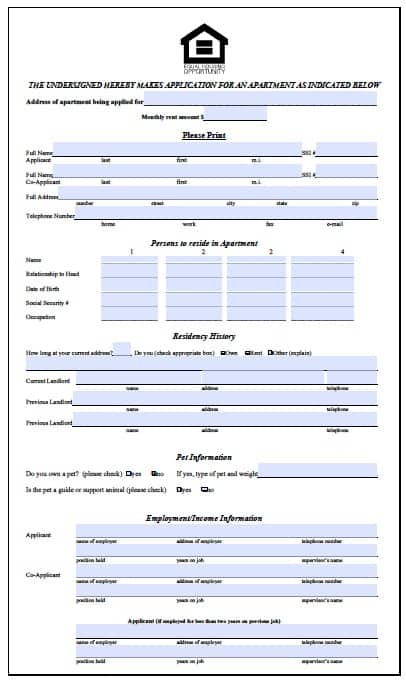checkbox: (199, 485, 209, 493), (149, 469, 158, 477), (174, 486, 183, 493), (124, 470, 131, 478)
textline: (57, 184, 382, 204), (24, 357, 382, 374), (76, 204, 380, 224), (71, 389, 381, 408), (73, 541, 380, 560), (73, 563, 381, 581), (74, 523, 381, 540), (72, 413, 378, 430), (74, 624, 380, 641), (74, 371, 379, 388), (144, 89, 378, 110), (73, 585, 380, 600), (52, 141, 305, 158), (52, 163, 304, 180), (74, 647, 379, 660), (256, 464, 380, 482), (315, 141, 380, 159), (313, 163, 378, 181), (224, 265, 289, 282), (288, 266, 357, 282), (163, 265, 224, 282), (201, 108, 270, 123), (289, 281, 357, 296), (99, 279, 160, 295), (224, 310, 289, 325), (288, 253, 356, 267), (96, 266, 162, 280), (290, 311, 356, 325), (164, 310, 224, 325), (98, 309, 160, 323), (224, 282, 290, 295), (98, 295, 159, 309), (224, 296, 289, 309), (163, 281, 223, 295), (163, 296, 225, 309), (163, 253, 224, 266), (289, 298, 355, 310), (224, 254, 289, 266), (98, 253, 161, 265), (112, 342, 131, 359)
